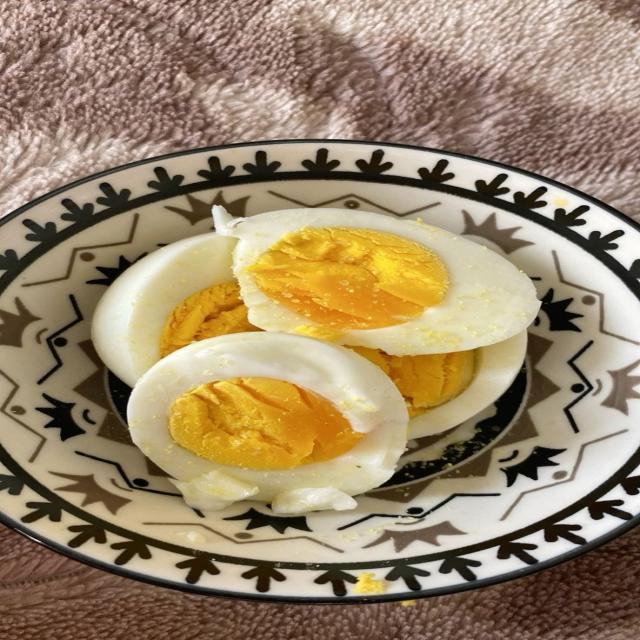egg boiled: (128, 332, 407, 512), (214, 207, 539, 355), (93, 234, 255, 386), (92, 233, 252, 386)
